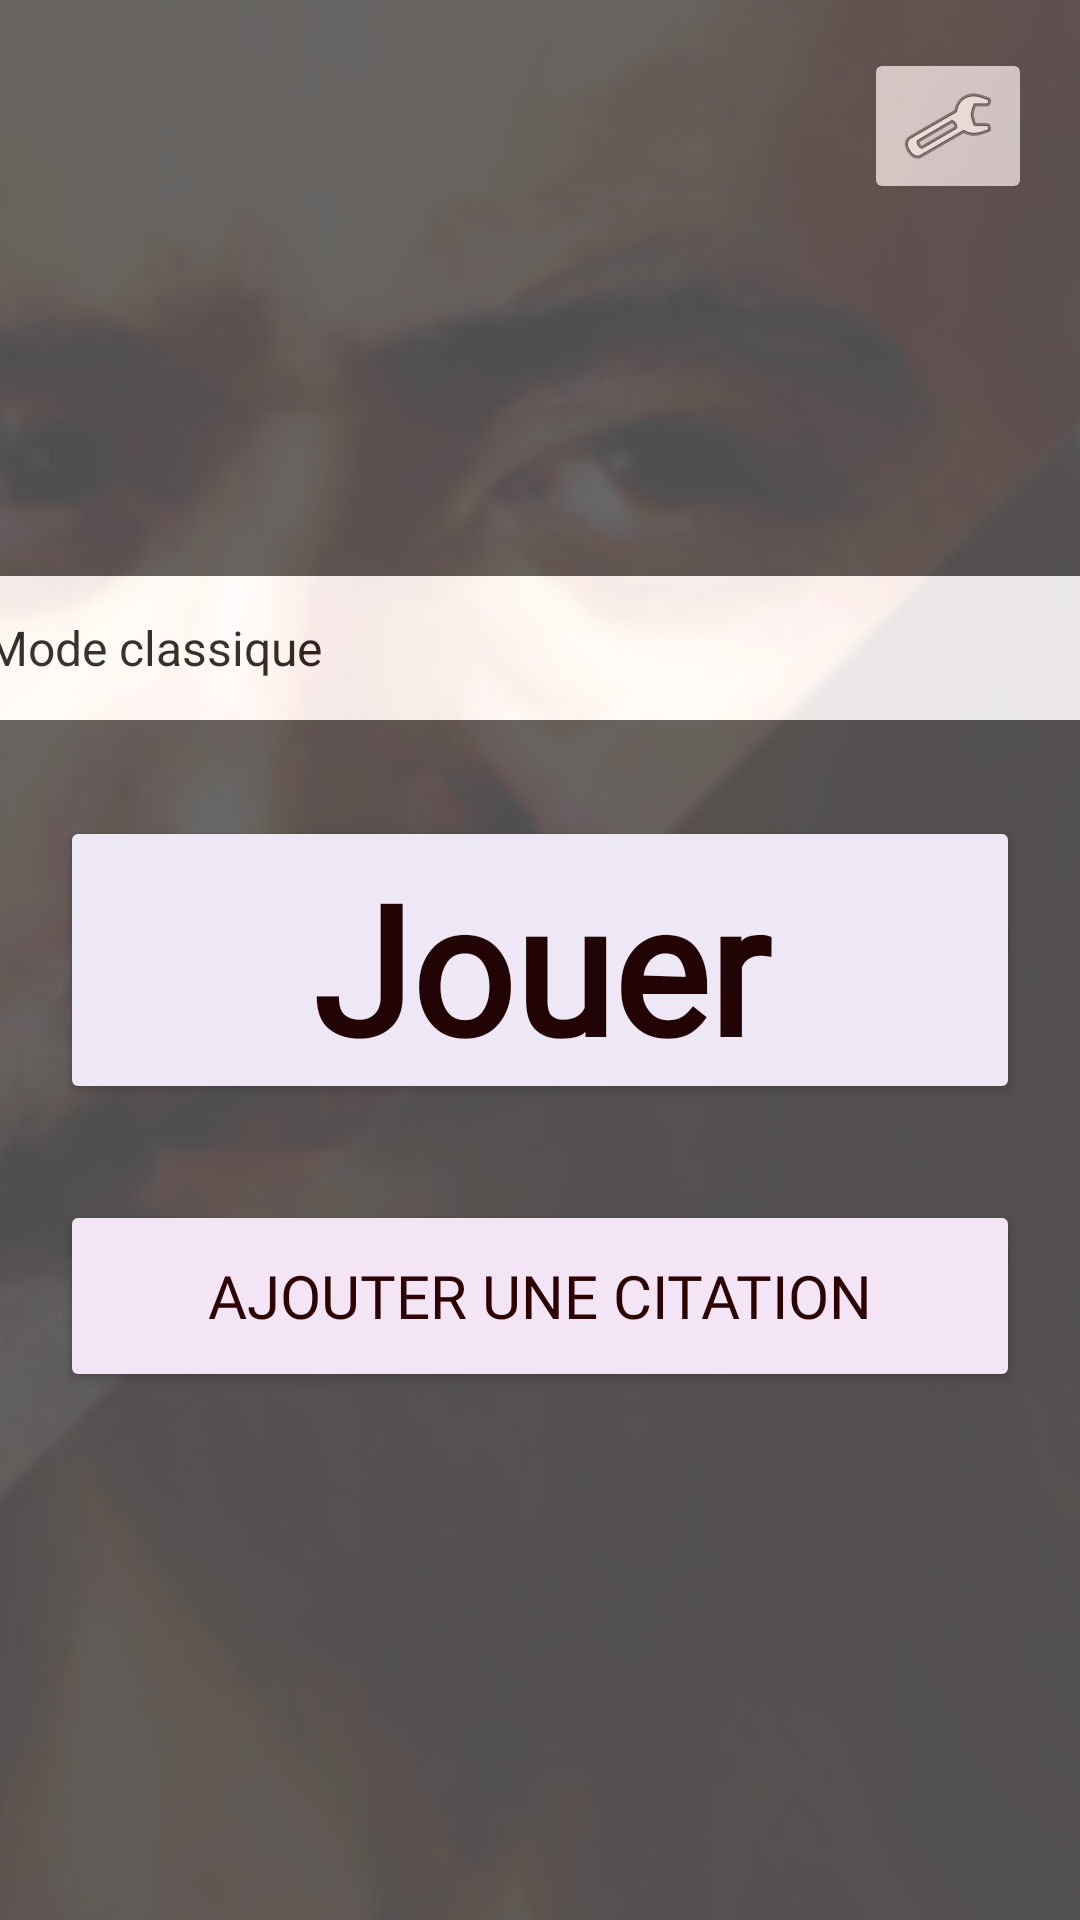

Named icons in this screenshot (1080*1920) and their centers, [x,y]:
preferences: [948,126]
